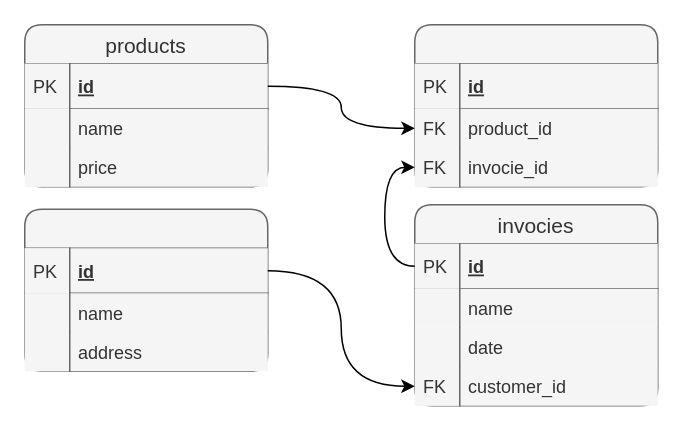
Image size: 683x431. Some labels were removed from this diagram. The shapes that lost their labels are listed below. From the top down, each one's box as (x1, y1, x2, y2) in pixels, then its label:
(413, 23, 658, 187): products_invocies
(23, 208, 268, 371): customers
